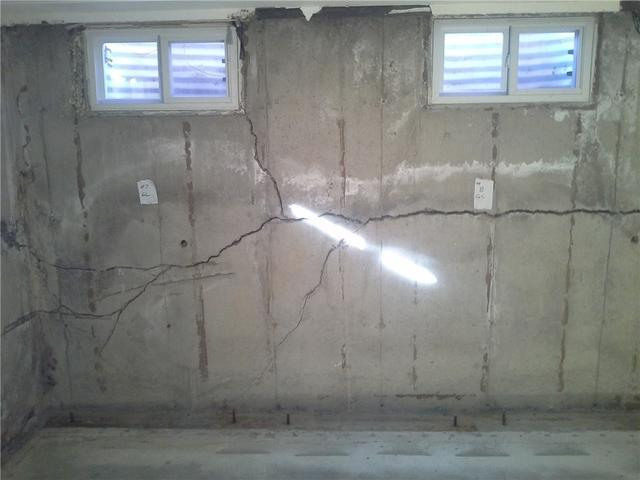crack: (38, 117, 640, 352), (5, 304, 120, 333), (152, 273, 236, 287), (99, 290, 122, 305)
